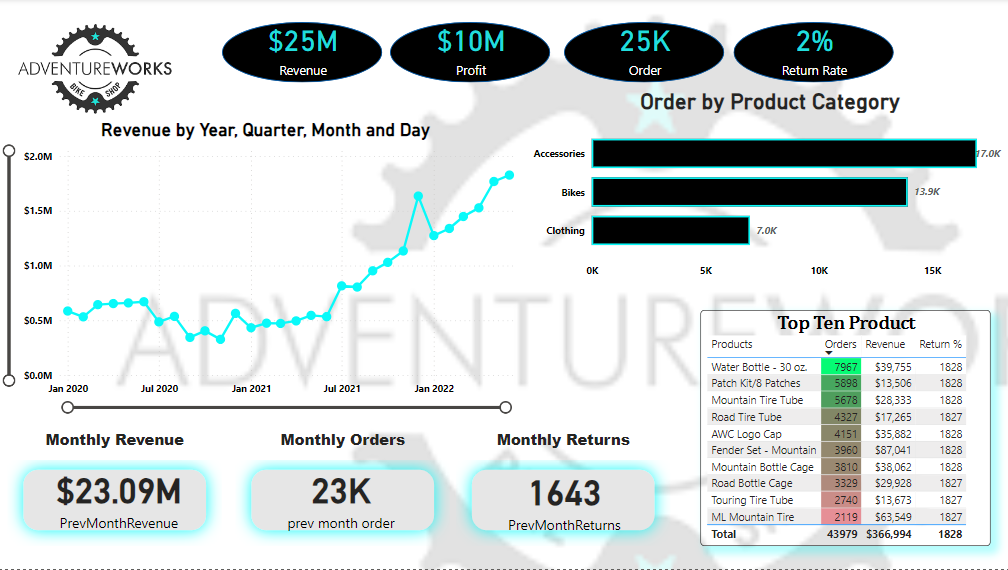

This screenshot's page, from the dashboard's own definition file:
{"tool":"powerbi","page":{"name":"Page 2","canvas":[1280,720],"ordinal":0},"visuals":[{"type":"shape","box":[282.9,30.2,201.9,76.3],"z":0,"group":"g1"},{"type":"shape","box":[495.9,30.2,201.9,76.3],"z":0,"group":"g2"},{"type":"shape","box":[713.6,30.2,201.9,76.3],"z":0,"group":"g3"},{"type":"shape","box":[928.2,30.2,201.9,76.3],"z":0,"group":"g4"},{"type":"barChart","fields":{"Y":["New measures.Total Order"],"Category":["AdventureWorks Product Categories Lookup.CategoryName"]},"box":[669.1,112.8,610.3,247.9],"z":0},{"type":"shape","title":"Monthly Revenue","box":[12.7,542,270.2,147.8],"z":0,"group":"g6"},{"type":"shape","title":"Monthly Orders","box":[300.4,542,270.2,147.8],"z":0,"group":"g5"},{"type":"shape","title":"Monthly Returns","box":[578.5,542,270.2,147.8],"z":0,"group":"g8"},{"type":"image","box":[0,0,247.9,178],"z":1000},{"type":"card","fields":{"Values":["New measures.Total Revenue"]},"box":[313.1,17.5,143,89],"z":1000,"group":"g1"},{"type":"card","fields":{"Values":["New measures.Total Profit"]},"box":[526.1,17.5,143,89],"z":1000,"group":"g2"},{"type":"card","fields":{"Values":["New measures.Total Order"]},"box":[743.8,17.5,143,89],"z":1000,"group":"g3"},{"type":"card","fields":{"Values":["New measures.Return Rate"]},"box":[958.4,17.5,143,89],"z":1000,"group":"g4"},{"type":"card","fields":{"Values":["New measures.PrevMonthRevenue"]},"box":[58.8,564.3,189.1,125.6],"z":1000,"group":"g6"},{"type":"card","fields":{"Values":["New measures.prev month order"]},"box":[337.9,564.3,189.1,125.6],"z":1000,"group":"g5"},{"type":"card","fields":{"Values":["New measures.PrevMonthReturns"]},"box":[619.8,565.8,189.1,125.6],"z":1000,"group":"g8"},{"type":"group","id":"g1","title":"Group 1","box":[282.9,17.5,201.9,89],"z":2000},{"type":"group","id":"g2","title":"Group 2","box":[495.9,17.5,201.9,89],"z":3000},{"type":"group","id":"g3","title":"Group 3","box":[713.6,17.5,201.9,89],"z":4000},{"type":"group","id":"g4","title":"Group 4","box":[928.2,17.5,201.9,89],"z":5000},{"type":"lineChart","fields":{"Y":["New measures.Total Revenue"],"Category":["AdventureWorks Calendar Lookup.Start of Month.Variation.Date Hierarchy.Year","AdventureWorks Calendar Lookup.Start of Month.Variation.Date Hierarchy.Quarter","AdventureWorks Calendar Lookup.Start of Month.Variation.Date Hierarchy.Month","AdventureWorks Calendar Lookup.Start of Month.Variation.Date Hierarchy.Day"]},"box":[3.2,152.6,669.1,373.5],"z":6000},{"type":"tableEx","title":"Top Ten Product","fields":{"Values":["AdventureWorks Product Lookup.ProductName","Sum(sales.OrderQuantity)","New measures.Total Revenue","Sum(AdventureWorks Returns Data.ReturnQuantity)"]},"box":[886.9,392.6,365.6,297.2],"z":7000},{"type":"group","id":"g5","title":"Group 7","box":[300.4,542,270.2,147.8],"z":7005,"group":"g7"},{"type":"group","id":"g6","title":"Group 5","box":[12.7,542,270.2,147.8],"z":8000},{"type":"group","id":"g7","title":"Group 6","box":[300.4,542,270.2,147.8],"z":9000},{"type":"group","id":"g8","title":"Group 8","box":[578.5,542,270.2,149.4],"z":10000}]}

Visuals, with their boxes in screenshot pixels (x1, y1, x2, y2), scaled from the page's 1280x720 canvas onto the 1008x570 screenshot:
shape: [223,24,382,84]
shape: [391,24,550,84]
shape: [562,24,721,84]
shape: [731,24,890,84]
barChart - New measures.Total Order x AdventureWorks Product Categories Lookup.CategoryName: [527,89,1007,286]
"Monthly Revenue" shape: [10,429,223,546]
"Monthly Orders" shape: [237,429,449,546]
"Monthly Returns" shape: [456,429,668,546]
image: [0,0,195,141]
card - New measures.Total Revenue: [247,14,359,84]
card - New measures.Total Profit: [414,14,527,84]
card - New measures.Total Order: [586,14,698,84]
card - New measures.Return Rate: [755,14,867,84]
card - New measures.PrevMonthRevenue: [46,447,195,546]
card - New measures.prev month order: [266,447,415,546]
card - New measures.PrevMonthReturns: [488,448,637,547]
"Group 1" group: [223,14,382,84]
"Group 2" group: [391,14,550,84]
"Group 3" group: [562,14,721,84]
"Group 4" group: [731,14,890,84]
lineChart - New measures.Total Revenue x AdventureWorks Calendar Lookup.Start of Month.Variation.Date Hierarchy.Year: [3,121,529,416]
"Top Ten Product" tableEx: [698,311,986,546]
"Group 7" group: [237,429,449,546]
"Group 5" group: [10,429,223,546]
"Group 6" group: [237,429,449,546]
"Group 8" group: [456,429,668,547]
